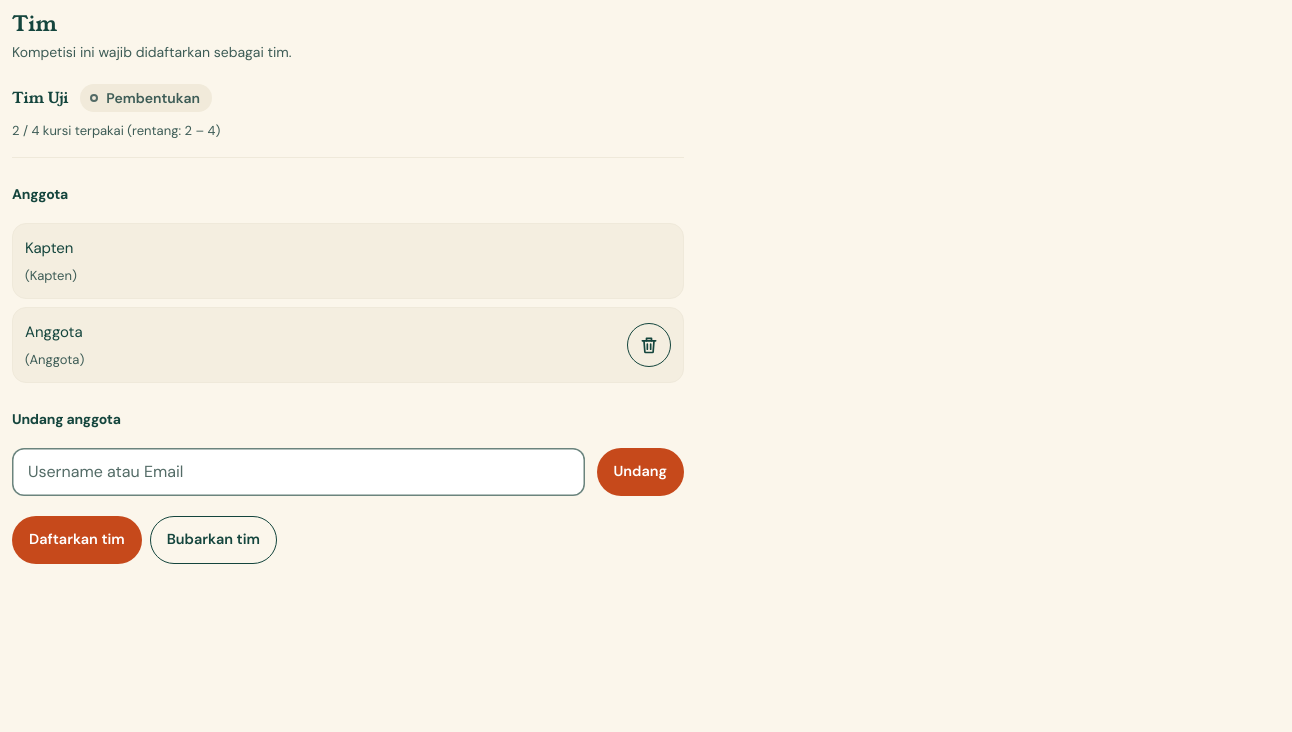
it: the team section's refusals › says why the captain cannot register a team holding an owner or staff member of the competition's institution
The width and height of the screenshot is (1292, 732).
What coordinates should you click on to do the following:
click the button "Daftarkan tim"
I would click on:
 (77, 540)
Its box is 12,516 -> 142,564.
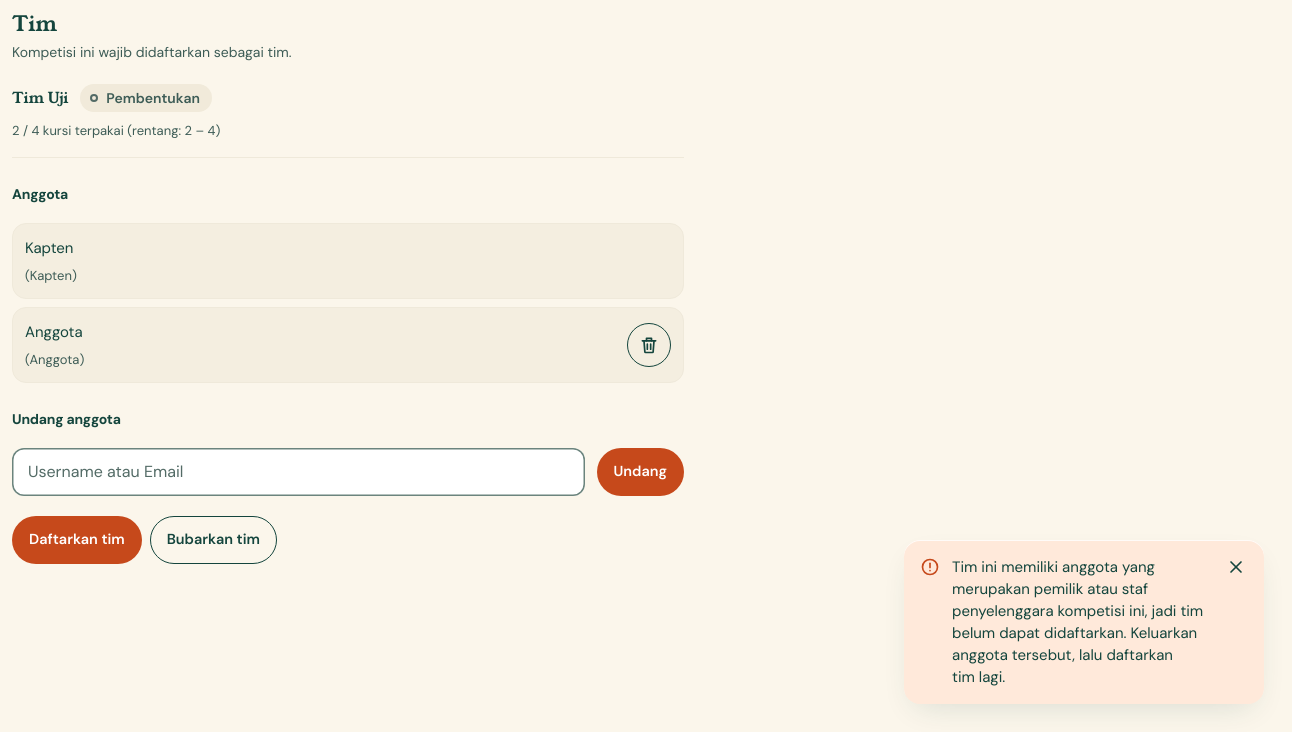
Expected: the text "Tim ini memiliki anggota yang merupakan pemilik atau staf penyelenggara kompetisi ini, jadi tim belum dapat didaftarkan." is shown, 952,557 -> 1203,687
